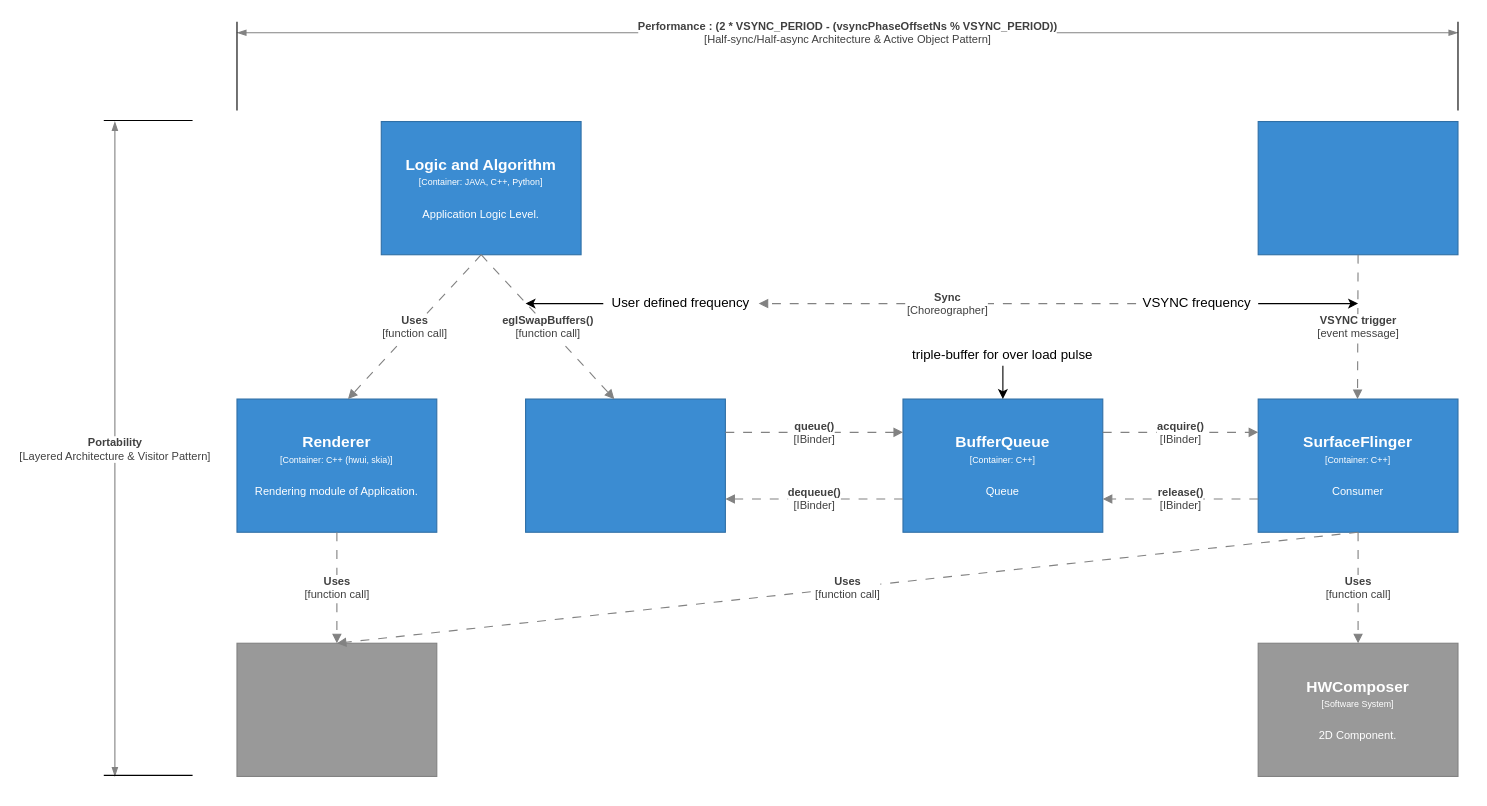
Image size: 1487x806. Some labels were removed from this diagram. The box of each missing label's shape, as (x1, y1, x2, y2) in pixels:
Composer Client [Container: C++] Producer: (524, 398, 725, 532)
GPU [Software System ] 3D Component.: (236, 642, 437, 776)
VSYNC [Container: C++] VSYNC Source: (1257, 120, 1458, 255)
